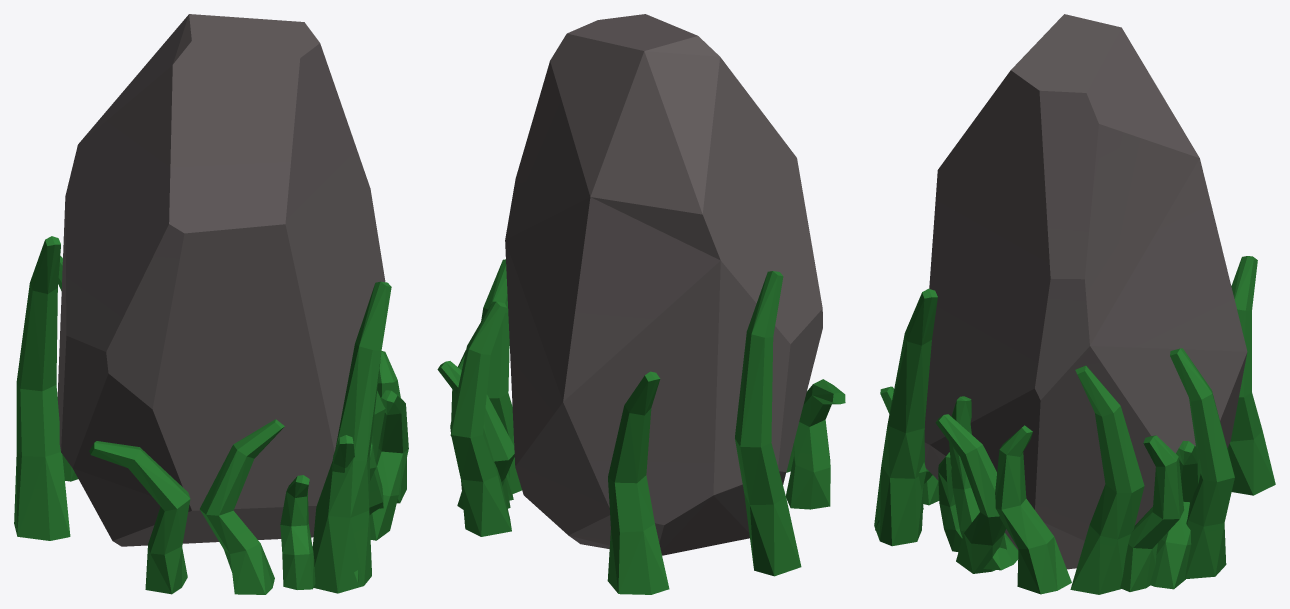
File: luma-rock.glb
The picture shows the model from 3 angles, left to right: view 1: azimuth 30°, elevation 25°; view 2: azimuth 150°, elevation 25°; view 3: azimuth 270°, elevation 25°; orthographic projection. The views are drawn at different scales.
Visible parts, largest first — view 1: EA_Env_Rock_Boulder_Grass_01a; view 2: EA_Env_Rock_Boulder_Grass_01a; view 3: EA_Env_Rock_Boulder_Grass_01a.
Boxes of the visible parts, x1,y1,x2,y2 form: EA_Env_Rock_Boulder_Grass_01a: [14, 14, 408, 594]; EA_Env_Rock_Boulder_Grass_01a: [437, 14, 845, 594]; EA_Env_Rock_Boulder_Grass_01a: [874, 14, 1275, 594].
Bounding box in the file's own units: 1.49 × 2.06 × 1.53.
Materials: 1 (1 with a texture image).
